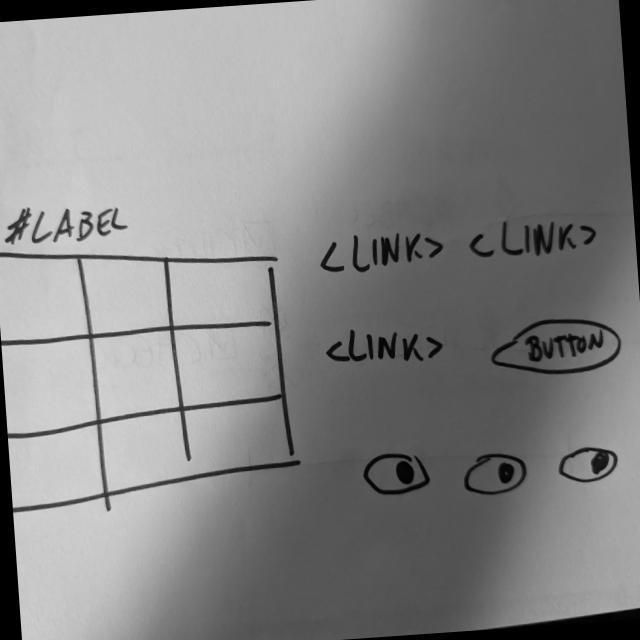button: (485, 310, 627, 382)
label: (1, 197, 131, 252)
link: (317, 223, 450, 280), (464, 210, 601, 265), (322, 320, 448, 373)
table: (1, 225, 302, 517)
toggle: (359, 446, 436, 502), (460, 445, 531, 502), (554, 442, 623, 487)
